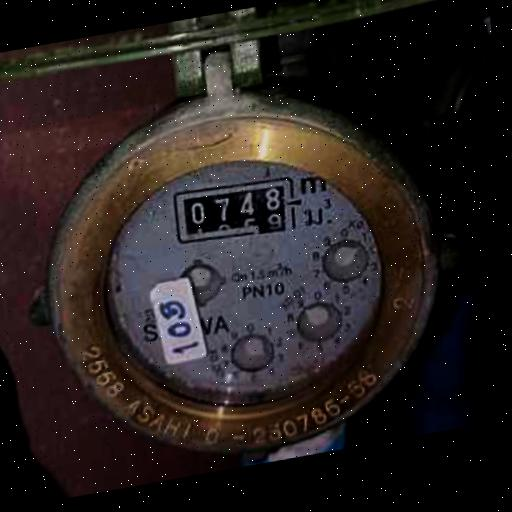0: (182, 195, 213, 238)
4: (233, 188, 261, 229)
7: (207, 190, 239, 233)
8: (254, 183, 289, 235)
border_water_meter_number: (169, 169, 299, 250)
